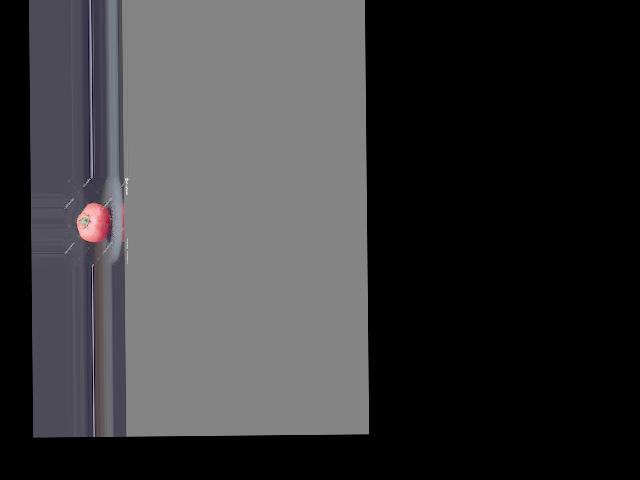tomato: (76, 202, 110, 242)
